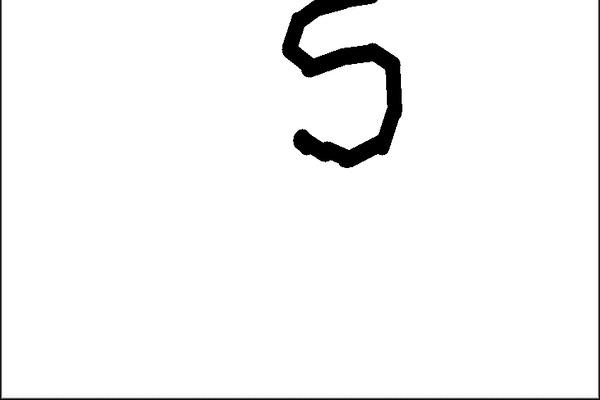S: (265, 0, 416, 178)
